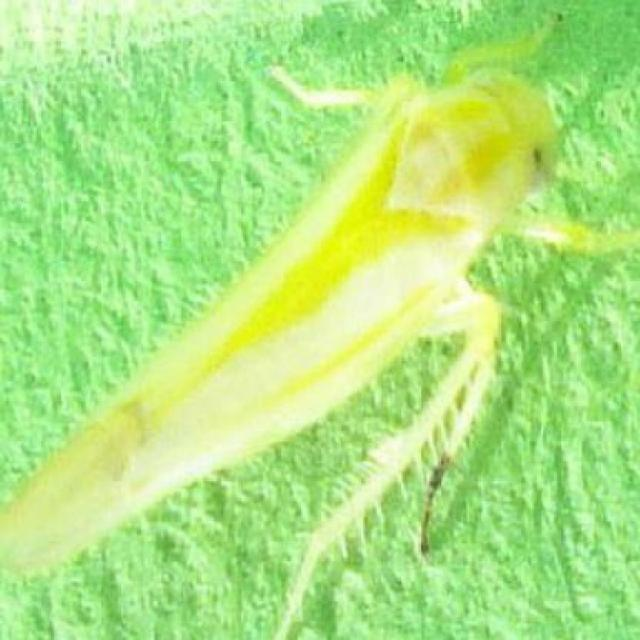green-leafhopper: (13, 55, 567, 571)
